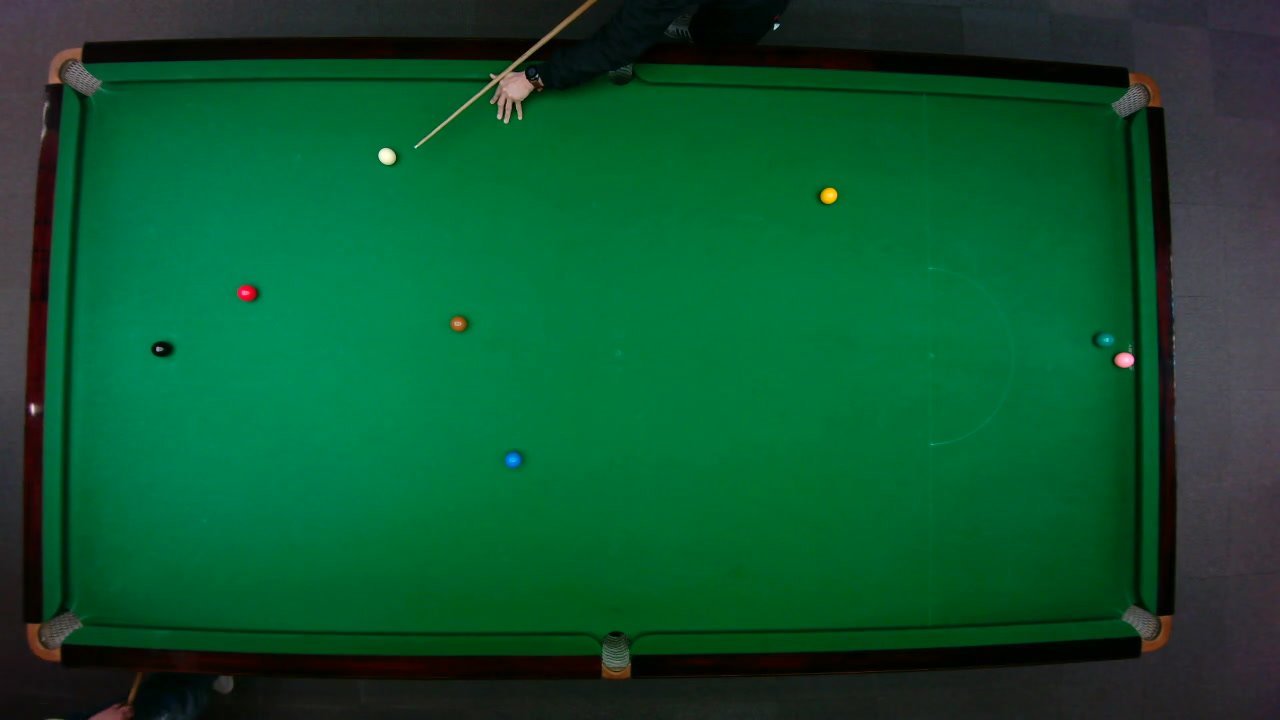bag: (25, 609, 83, 661), (45, 46, 102, 96), (1119, 603, 1171, 652), (1108, 71, 1161, 118), (600, 629, 629, 680), (607, 38, 634, 86)
black: (149, 339, 171, 357)
blue: (504, 450, 522, 468)
brown: (448, 314, 467, 332)
cue: (412, 0, 597, 148)
green: (1093, 330, 1114, 347)
pink: (1112, 350, 1135, 368)
red: (236, 283, 257, 301)
white: (376, 146, 397, 165)
yellow: (818, 185, 838, 204)
zone: (927, 266, 1014, 446)
